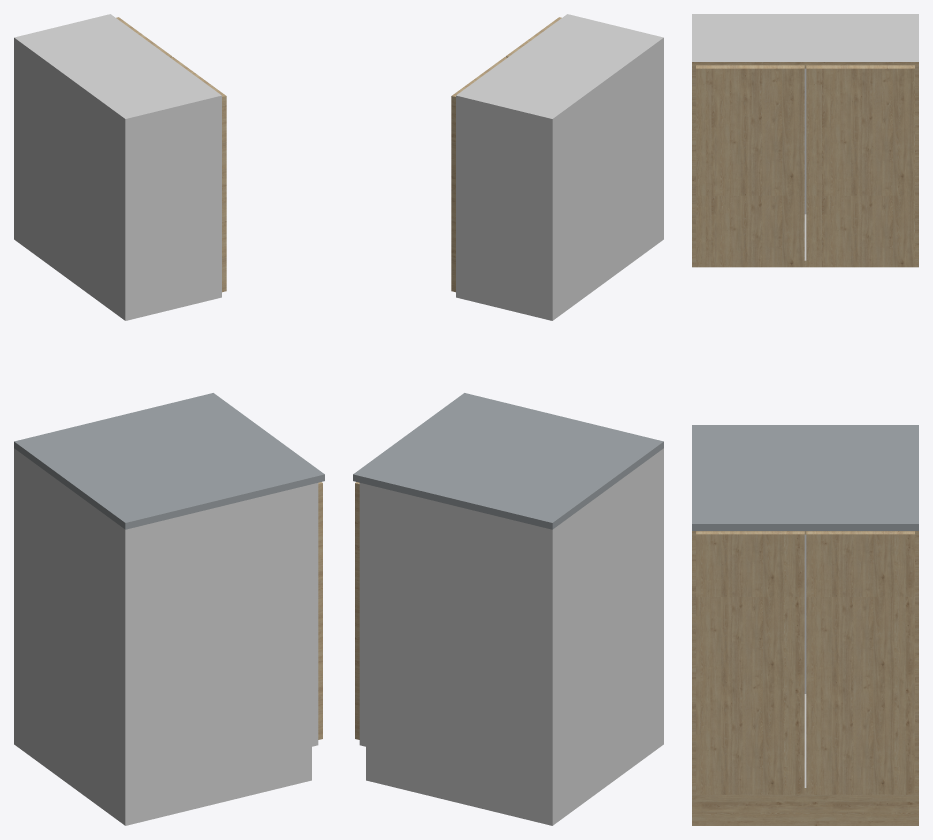
3 views of the same model, side by side, from view 1: azimuth 30°, elevation 25°; view 2: azimuth 150°, elevation 25°; view 3: azimuth 270°, elevation 25° (orthographic).
Parts seen in each view (by area): view 1: Mesh2 Group2 Model, Mesh7 Group7 Model, Mesh5 Group5 Model, Mesh3 Group3 Model, Mesh4 Group4 Model, Mesh1 Group1 Model; view 2: Mesh2 Group2 Model, Mesh7 Group7 Model, Mesh5 Group5 Model, Mesh3 Group3 Model, Mesh8 Group8 Model, Mesh6 Group6 Model; view 3: Mesh4 Group4 Model, Mesh8 Group8 Model, Mesh5 Group5 Model, Mesh1 Group1 Model, Mesh6 Group6 Model, Mesh7 Group7 Model, Mesh3 Group3 Model, Mesh2 Group2 Model.
Boxes of the visible parts, x1=… form: Mesh2 Group2 Model: x1=14, y1=448, x2=318, y2=792; Mesh7 Group7 Model: x1=14, y1=14, x2=221, y2=320; Mesh5 Group5 Model: x1=14, y1=393, x2=324, y2=529; Mesh3 Group3 Model: x1=14, y1=711, x2=311, y2=825; Mesh4 Group4 Model: x1=318, y1=482, x2=322, y2=739; Mesh1 Group1 Model: x1=170, y1=57, x2=226, y2=292; Mesh2 Group2 Model: x1=359, y1=448, x2=663, y2=792; Mesh7 Group7 Model: x1=456, y1=14, x2=663, y2=320; Mesh5 Group5 Model: x1=353, y1=393, x2=663, y2=529; Mesh3 Group3 Model: x1=366, y1=711, x2=663, y2=825; Mesh8 Group8 Model: x1=355, y1=482, x2=359, y2=739; Mesh6 Group6 Model: x1=451, y1=57, x2=507, y2=292; Mesh4 Group4 Model: x1=696, y1=531, x2=804, y2=794; Mesh8 Group8 Model: x1=806, y1=531, x2=914, y2=794; Mesh5 Group5 Model: x1=692, y1=425, x2=918, y2=530; Mesh1 Group1 Model: x1=696, y1=65, x2=804, y2=267; Mesh6 Group6 Model: x1=806, y1=65, x2=914, y2=267; Mesh7 Group7 Model: x1=692, y1=14, x2=918, y2=267; Mesh3 Group3 Model: x1=692, y1=795, x2=918, y2=825; Mesh2 Group2 Model: x1=692, y1=531, x2=918, y2=794.
Size of the model in its own units: 62 by 210 by 60.
Materials: 3 (1 with a texture image).
